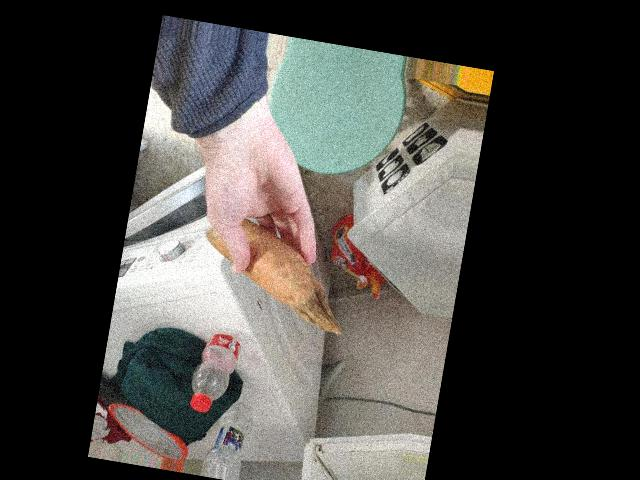sweet_potato: (213, 211, 316, 305)
